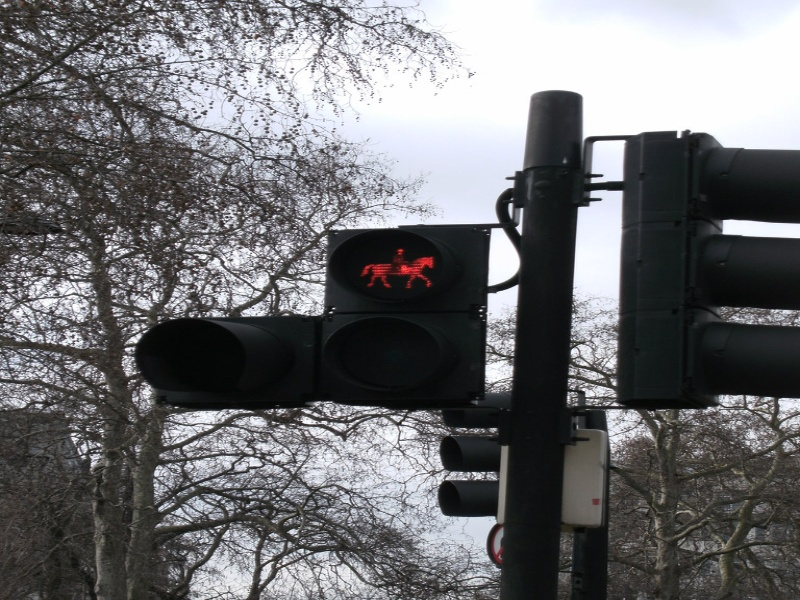pedestrian_crossing_red: (314, 222, 486, 315)
